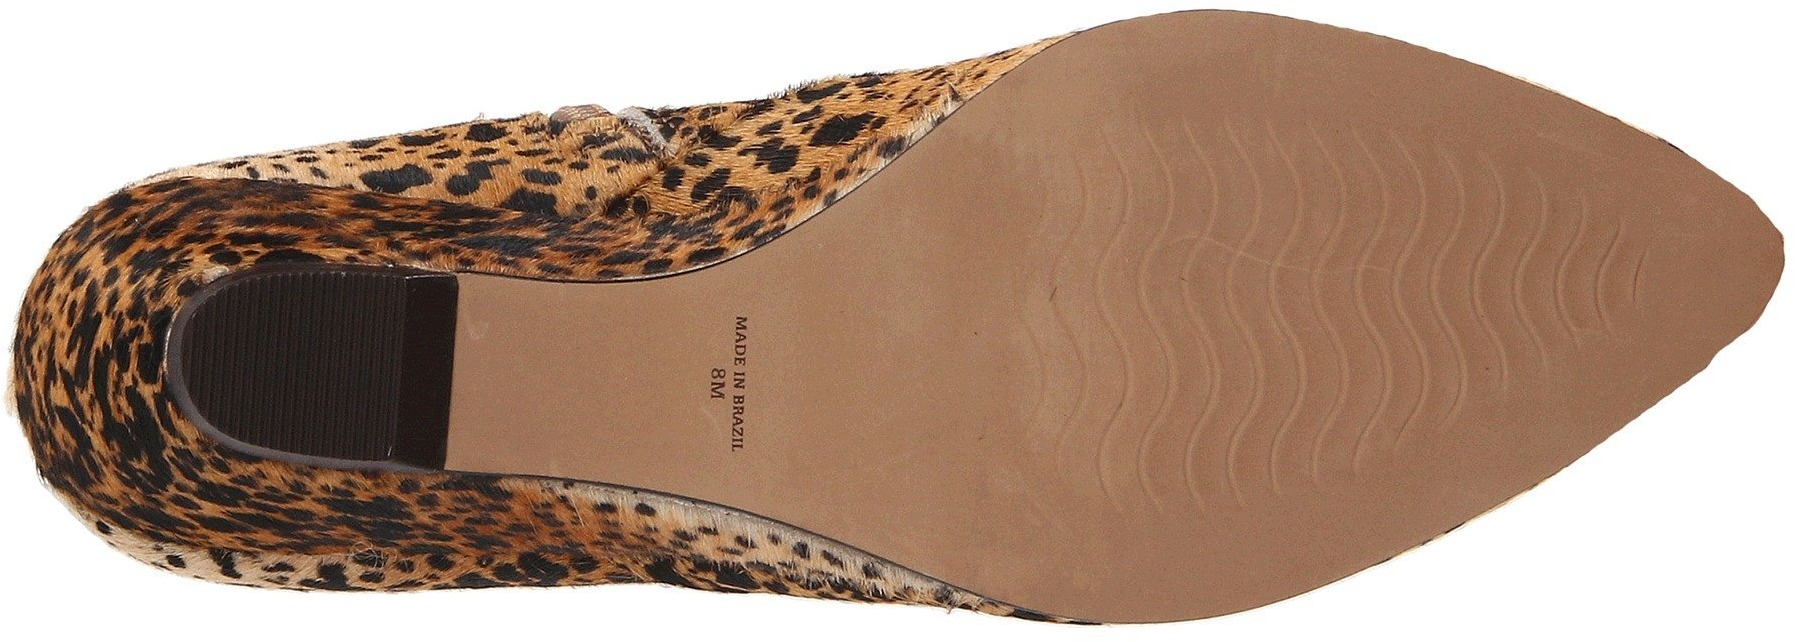chevron: (1060, 105, 1408, 450), (1417, 129, 1655, 374)
exclude: (381, 35, 694, 640)
other: (234, 280, 385, 441)
text: (655, 307, 819, 468)
